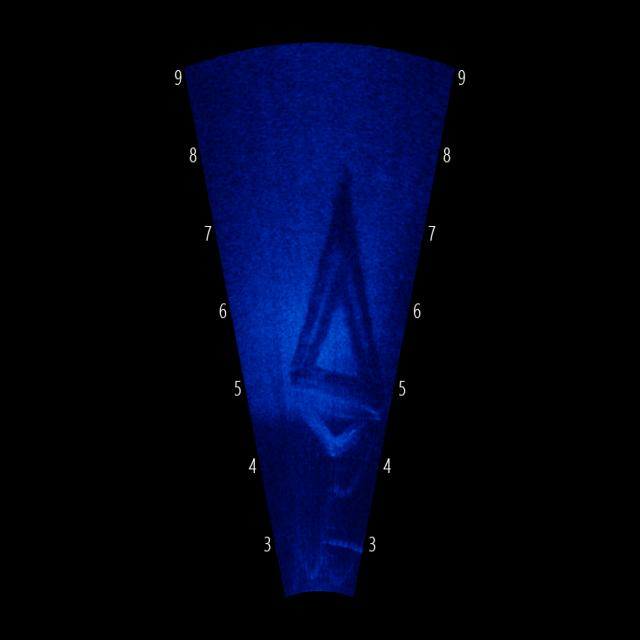triangle: (279, 216, 390, 418)
